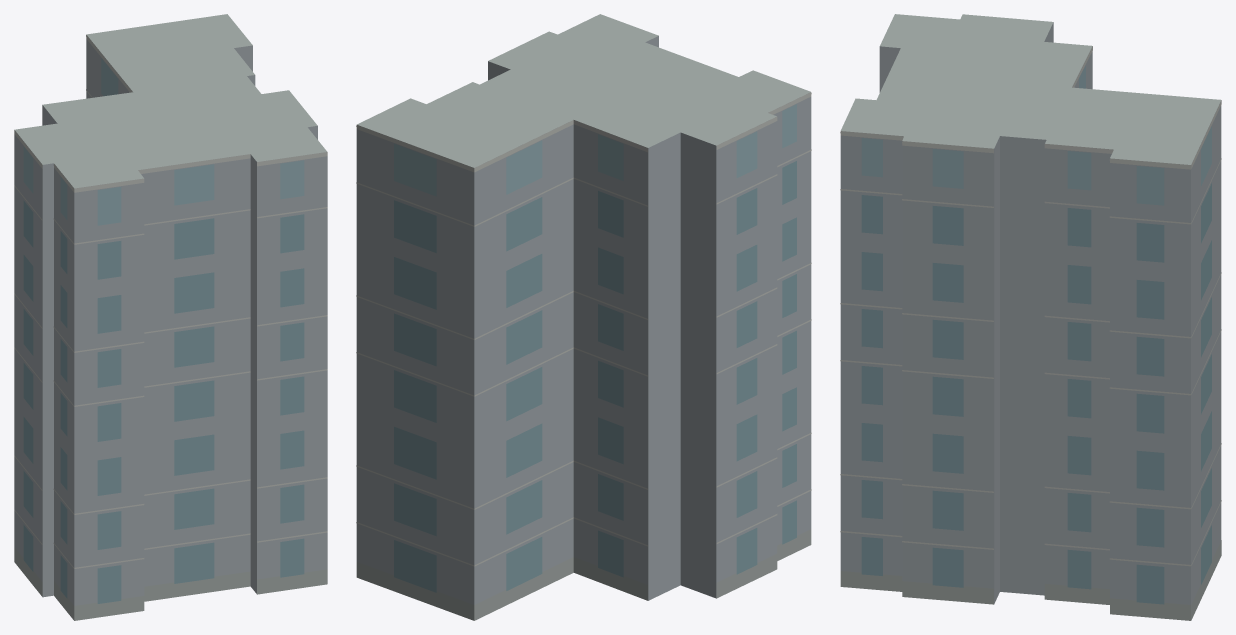
Rendered from survey-upis-32906073.glb.
3 views of the same model, side by side, from view 1: azimuth 30°, elevation 25°; view 2: azimuth 150°, elevation 25°; view 3: azimuth 270°, elevation 25° (orthographic). The views are drawn at different scales.
Parts seen in each view (by area): view 1: survey-upis-32906073.tmp; view 2: survey-upis-32906073.tmp; view 3: survey-upis-32906073.tmp.
Boxes of the visible parts, <box> form: survey-upis-32906073.tmp: <box>14,14,327,620</box>; survey-upis-32906073.tmp: <box>356,14,811,620</box>; survey-upis-32906073.tmp: <box>840,14,1221,620</box>.
Size of the model in its own units: 17.37 by 24.4 by 18.5.
